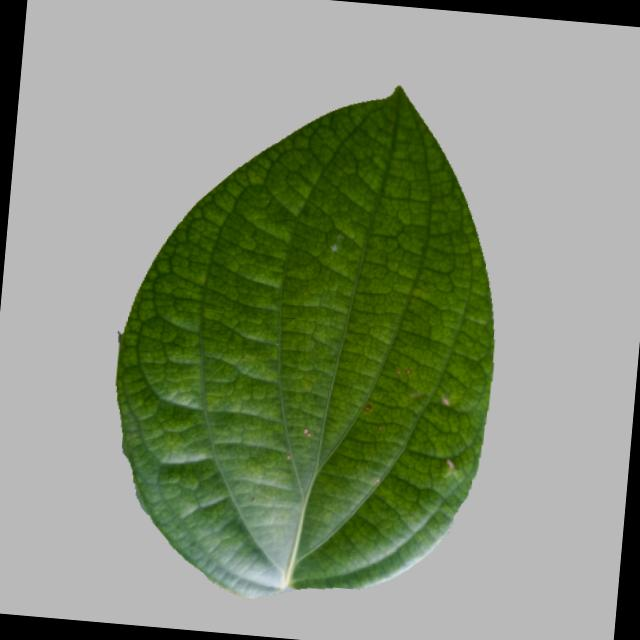healthy: (98, 56, 522, 614)
